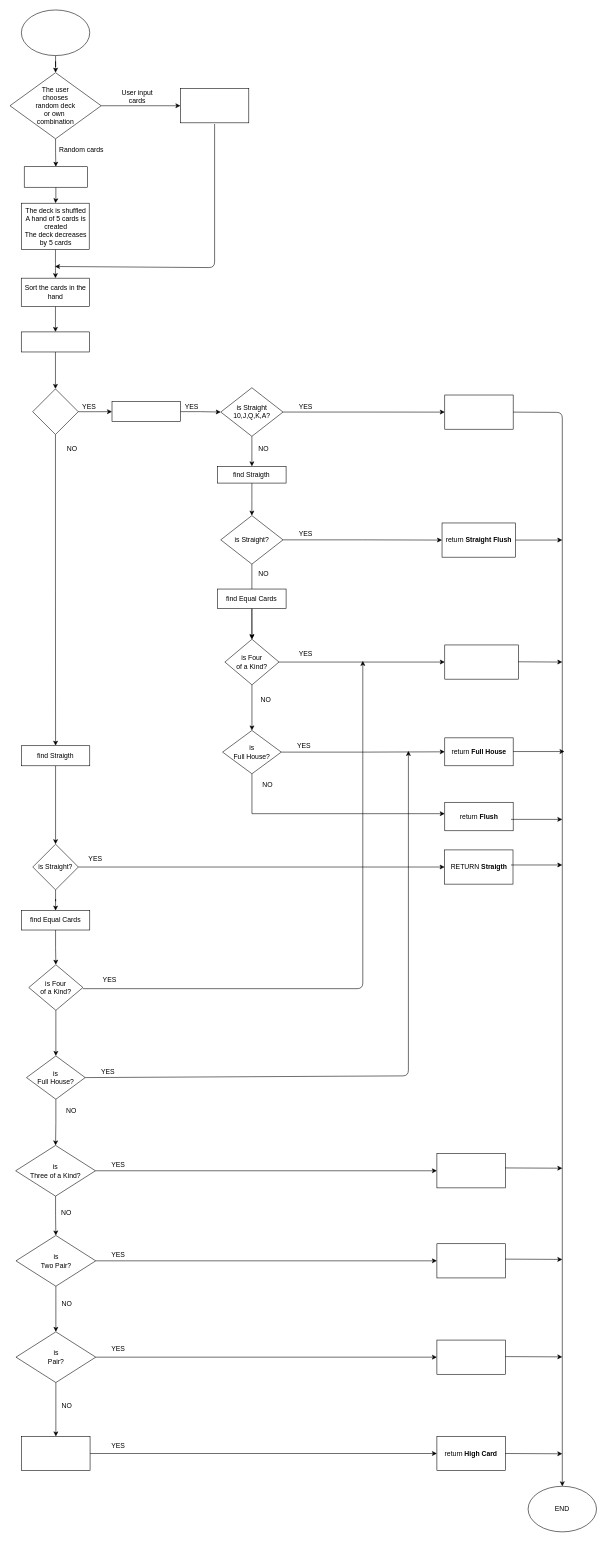
Some shapes in this 606 by 1542 pixel diagram are drawn without their labels. The shapes that lost their labels are listed below. From the top down, each one's centre as x and y in pixels, then its label:
the point at 55,32: START
the point at 214,105: Recognition of the combination of cards chosen by the user
the point at 55,176: Generation of a deck of 52 cards
the point at 55,341: find Flush
the point at 55,411: is Flush?
the point at 145,411: find Straigth 10,J,Q,K,A
the point at 478,411: return Royal Flush
the point at 481,661: return Four of a kind
the point at 470,1170: return Three of a Kind
the point at 470,1260: return Two Pair
the point at 470,1356: return Pair
the point at 55,1453: find High Card
